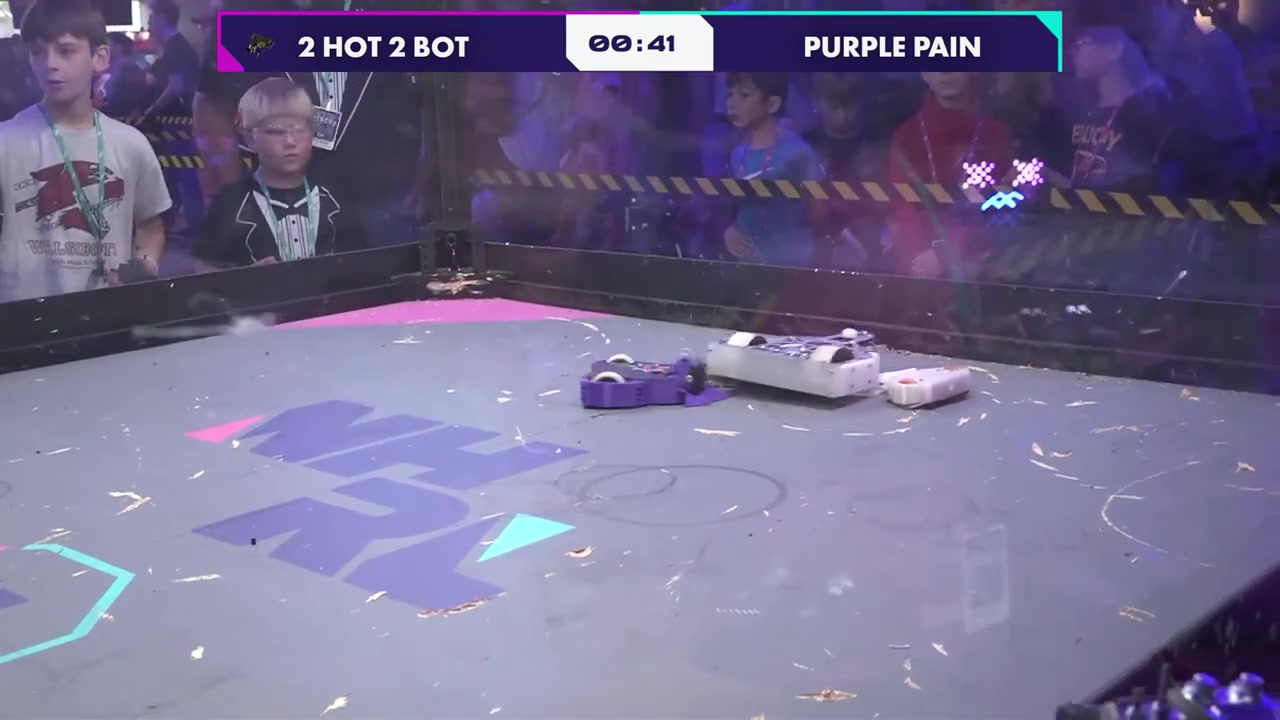combatbot: (707, 329, 879, 406), (579, 352, 702, 413)
minibot: (875, 364, 975, 413)
